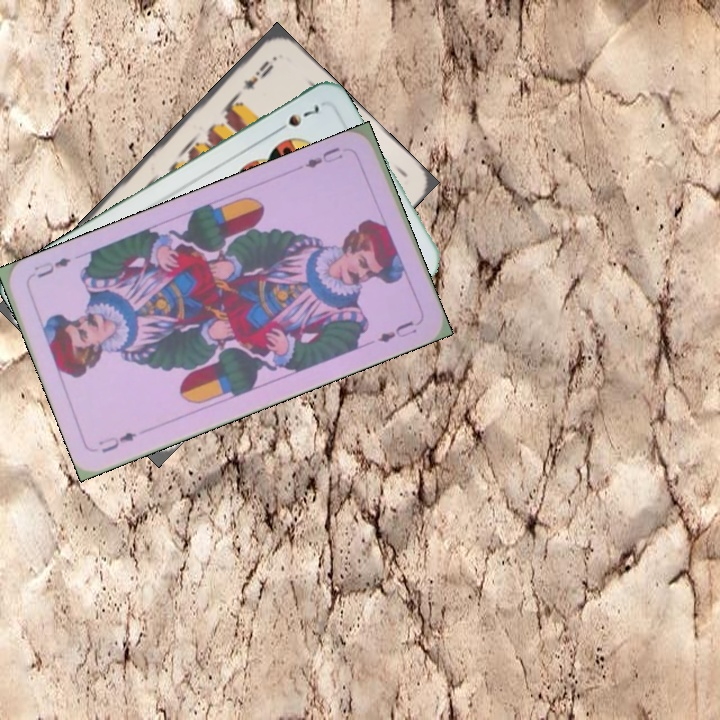E9: (238, 56, 277, 93)
EU: (300, 143, 346, 171), (94, 428, 139, 456)
S7: (270, 101, 322, 136)
